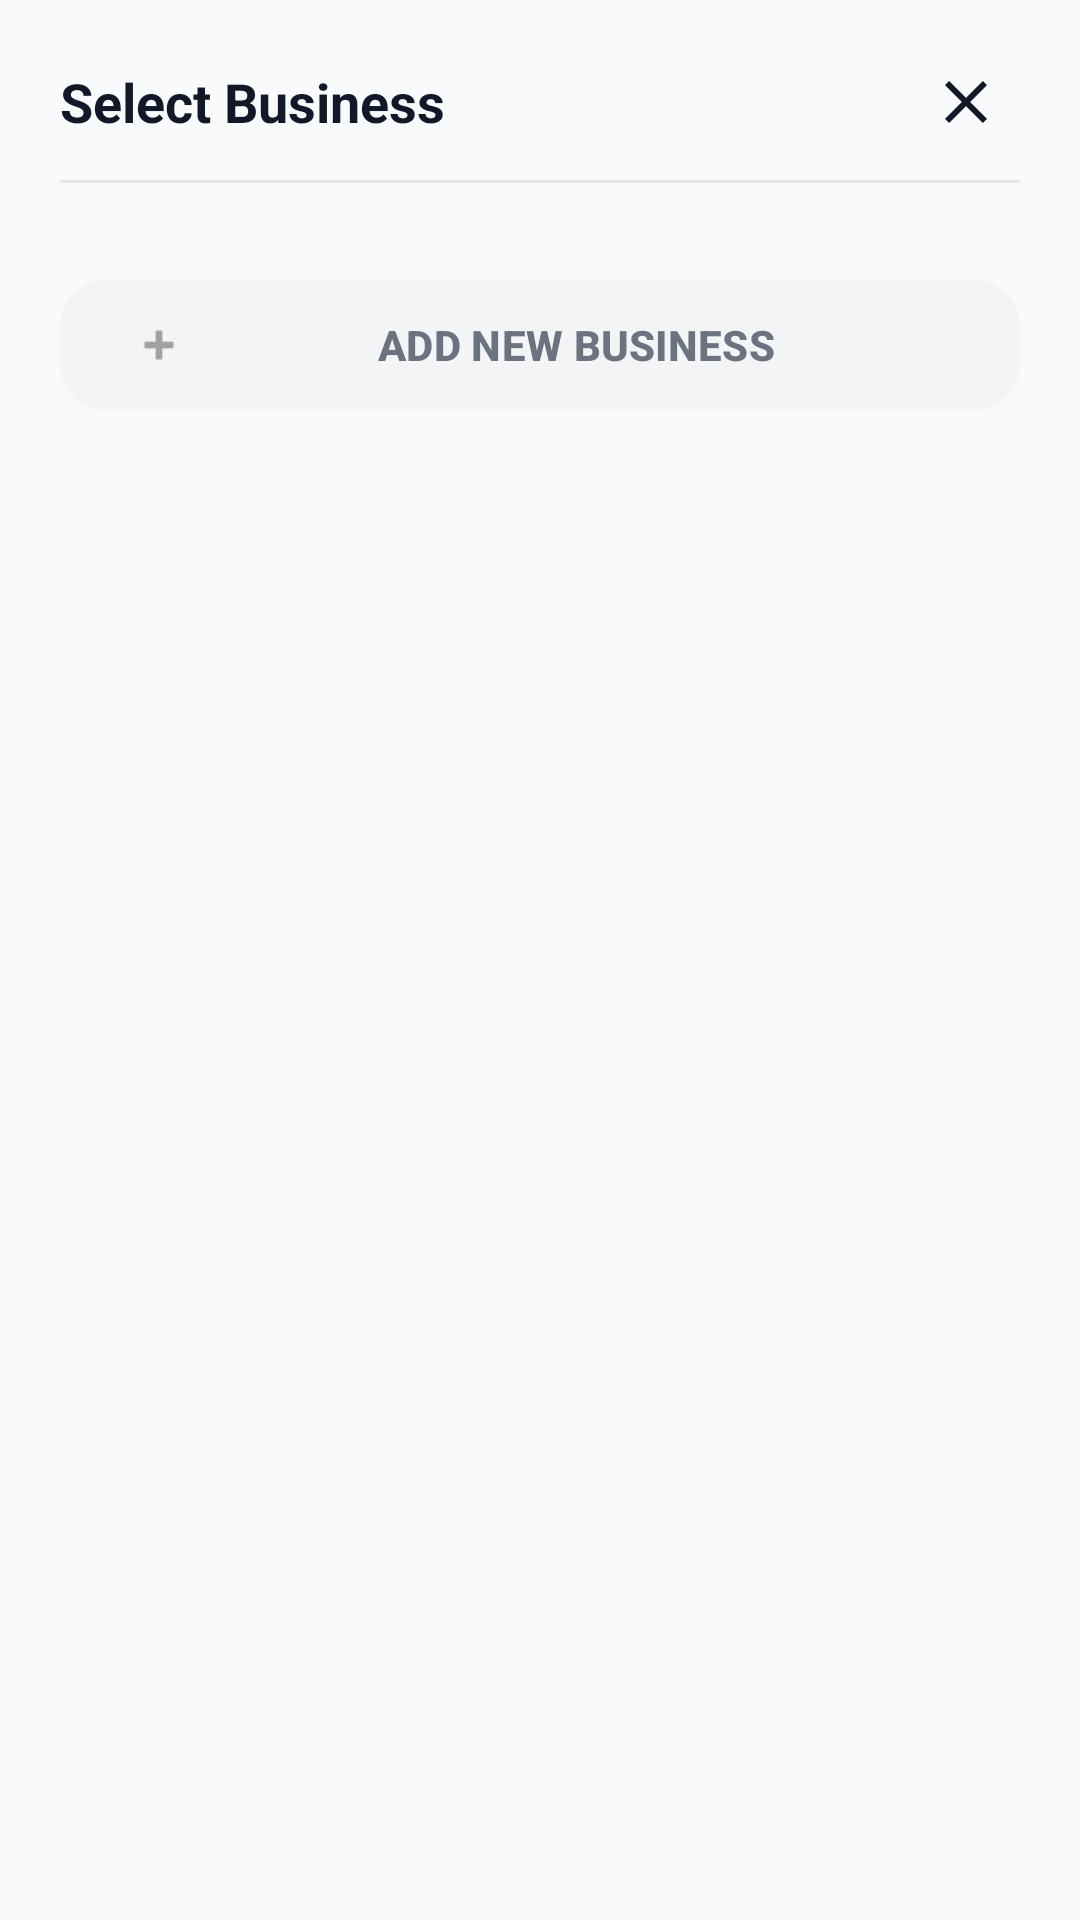

Where icons sit on this 1080×1920 app screen, as (x1, y1, x2, y2):
Close: (945, 81, 987, 123)
